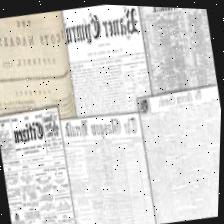paper: (55, 100, 163, 224), (55, 2, 157, 123), (134, 85, 222, 224), (0, 7, 80, 128), (0, 106, 80, 224), (135, 5, 220, 101)
